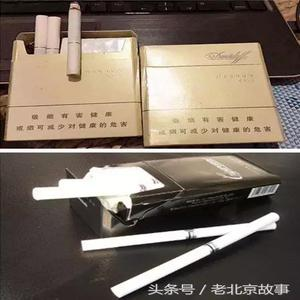cigarette: (71, 209, 286, 294), (68, 3, 85, 87), (34, 13, 47, 64)
